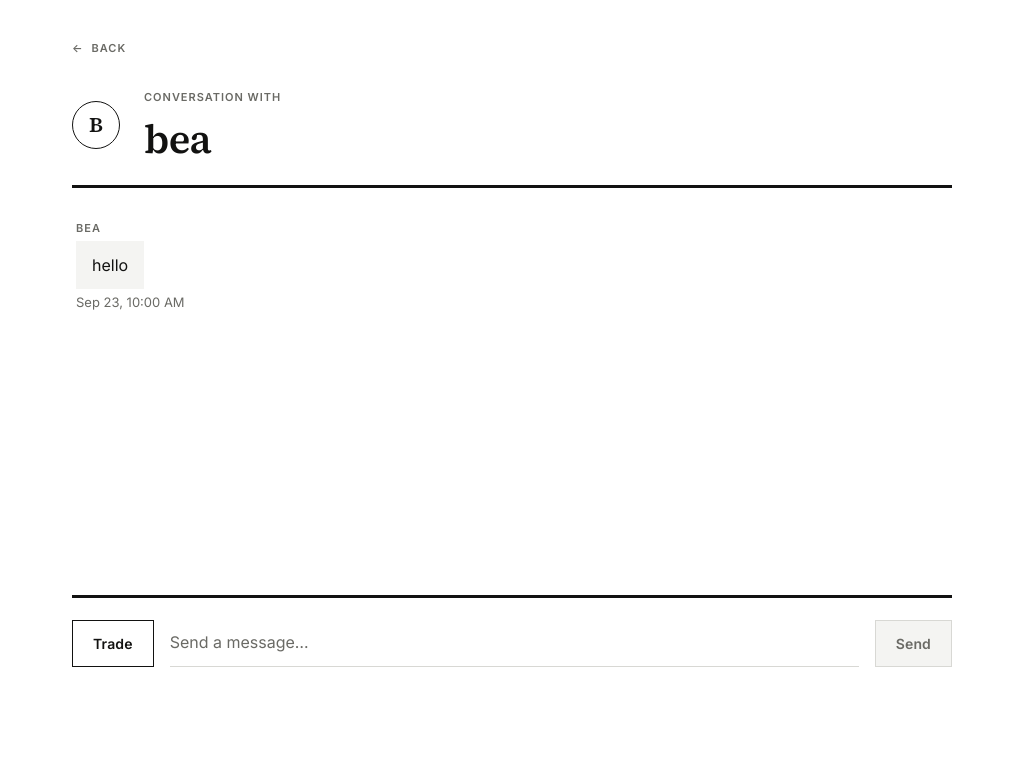
Test: a message sent from the thread does not skip one the other person sent just before it
Expected: the text "hello" is shown, 76,240 -> 144,288
Type "hi bea" into the field labelled "message" at (514, 642), box 170,618 -> 859,667
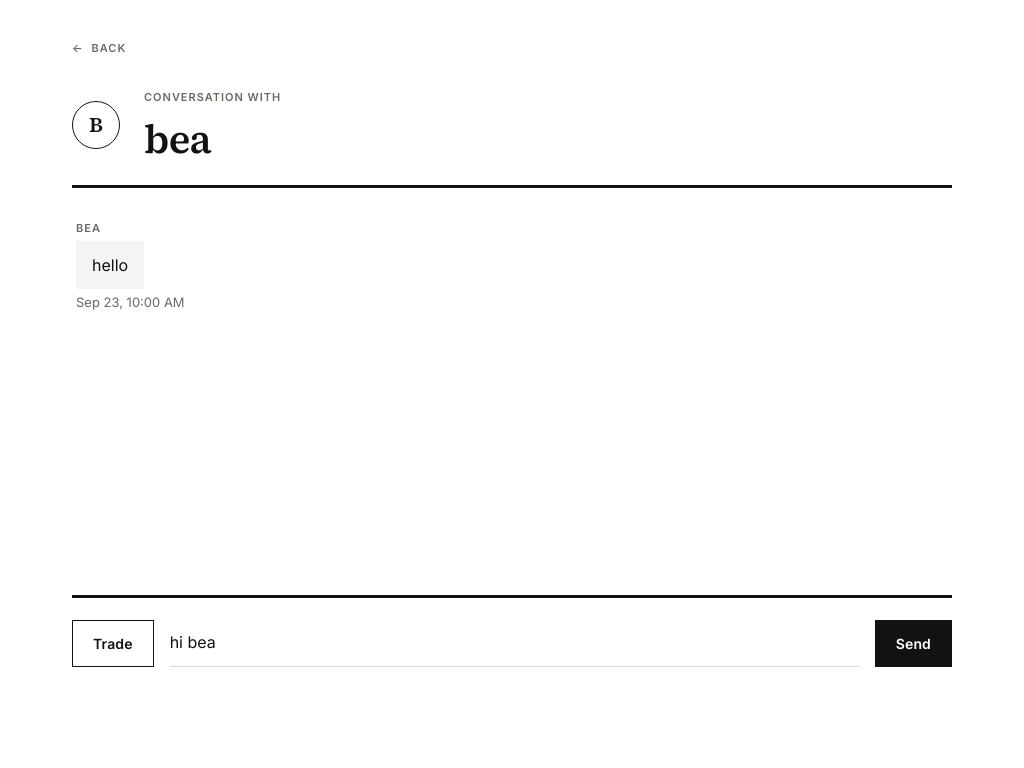
Click the button "Send" at (913, 644), box 875,620 -> 952,667
Wait 3000 ms
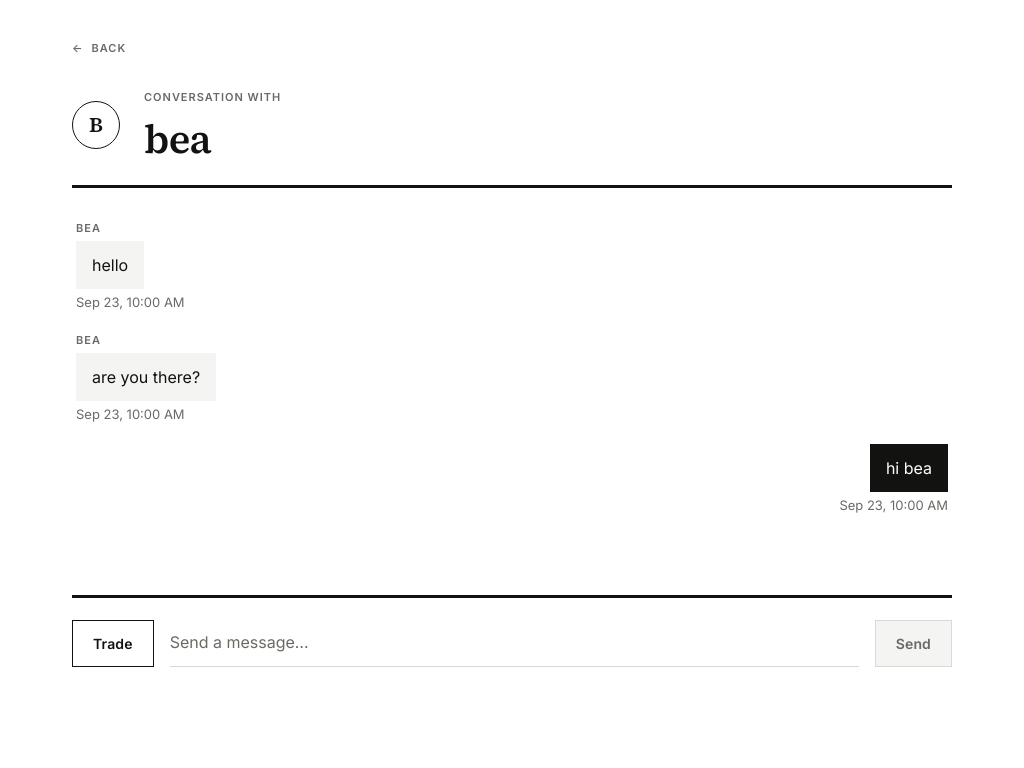
Expected: the text "are you there?" is shown, 76,352 -> 216,400
Expected: the text "hi bea" is shown once, 870,444 -> 948,492
